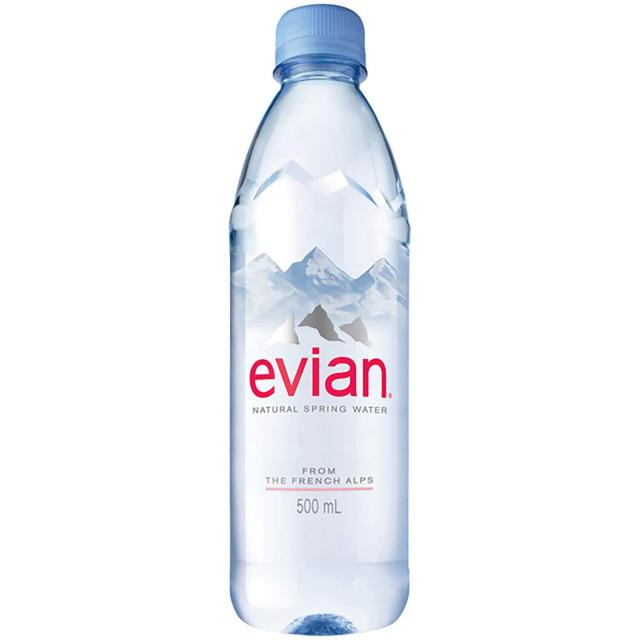plastic bottle: (230, 63, 410, 634)
plastic bottle cap: (273, 5, 369, 86)
